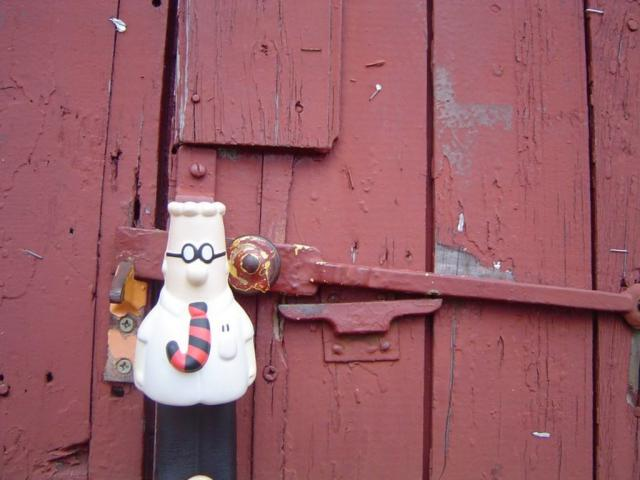Door-handle: (96, 224, 639, 389)
